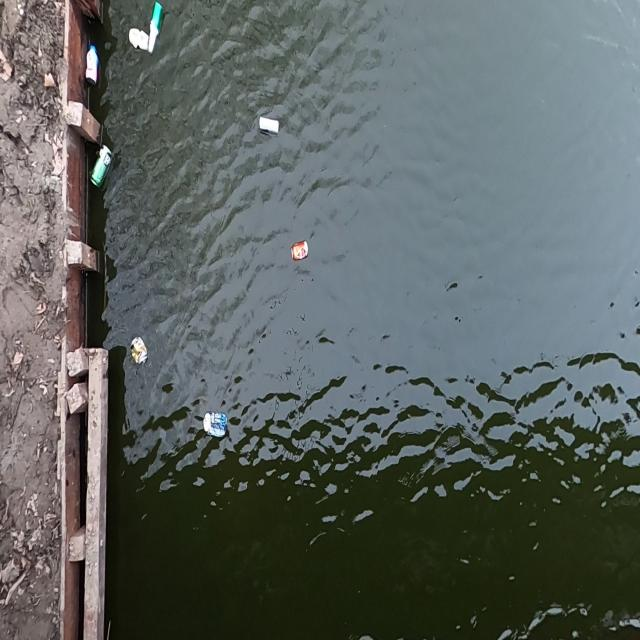Bouteille plastique: (83, 40, 100, 89)
Non plastique: (86, 142, 112, 199), (198, 403, 231, 441), (126, 329, 150, 379), (286, 233, 312, 272), (124, 24, 150, 60), (254, 110, 283, 142)
